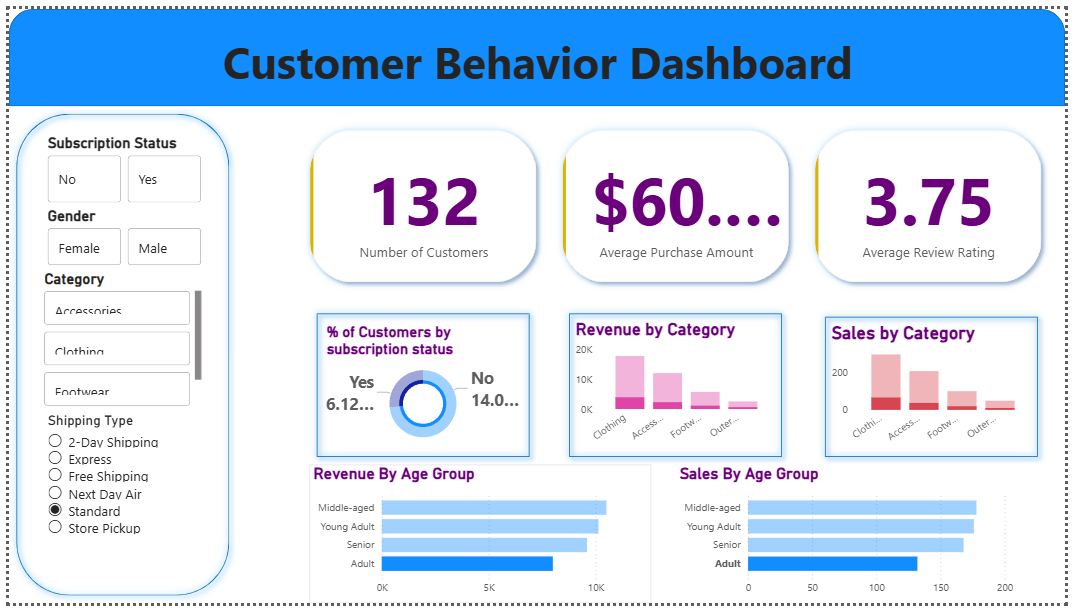

What the dashboard file says about the page in this screenshot:
{"tool":"powerbi","page":{"name":"Page 1","canvas":[1280,720],"ordinal":0},"visuals":[{"type":"cardVisual","fields":{"Data":["public customer.Number of Customers","public customer.Average Purchase Amount","public customer.Average Review Rating"]},"box":[336,118,944,242],"z":0},{"type":"shape","box":[0,0,1280,118],"z":1000},{"type":"textbox","box":[178,22,926,112],"z":2000},{"type":"donutChart","title":"% of Customers by subscription status","fields":{"Category":["public customer.subscription_status"],"Y":["CountNonNull(public customer.customer_id)"]},"box":[380,380,244,156],"z":3000},{"type":"clusteredColumnChart","title":"Revenue by Category","fields":{"Y":["Sum(public customer.purchase_amount)"],"Category":["public customer.category"]},"box":[682,376,250,160],"z":4000},{"type":"clusteredColumnChart","title":"Sales by Category","fields":{"Category":["public customer.category"],"Y":["CountNonNull(public customer.customer_id)"]},"box":[992,380,252,156],"z":5000},{"type":"shape","box":[670,360,276,192],"z":6000},{"type":"shape","box":[980,364,276,188],"z":7000},{"type":"shape","box":[364,360,276,192],"z":8000},{"type":"shape","box":[0,118,276,602],"z":8001},{"type":"advancedSlicerVisual","title":"Subscription Status","fields":{"Values":["public customer.subscription_status"]},"box":[42,152,196,88],"z":8002},{"type":"advancedSlicerVisual","title":"Gender","fields":{"Values":["public customer.gender"]},"box":[42,240,196,76],"z":8003},{"type":"advancedSlicerVisual","title":"Category","fields":{"Values":["public customer.category"]},"box":[38,316,200,172],"z":8004},{"type":"listSlicer","fields":{"Values":["public customer.shipping_type"]},"box":[42,488,200,202],"z":8005},{"type":"clusteredBarChart","title":"Revenue By Age Group","fields":{"Y":["Sum(public customer.purchase_amount)"],"Category":["public customer.age_group"]},"box":[364,552,414,168],"z":8006},{"type":"clusteredBarChart","title":"Sales By Age Group","fields":{"Category":["public customer.age_group"],"Y":["CountNonNull(public customer.customer_id)"]},"box":[808,552,414,168],"z":8007}]}

Visuals, with their boxes in screenshot pixels (x1, y1, x2, y2), scaled from the page's 1280x720 canvas onto the 1075x611 screenshot:
cardVisual - public customer.Number of Customers x public customer.Average Purchase Amount: x1=282, y1=100, x2=1074, y2=306
shape: x1=0, y1=0, x2=1074, y2=100
textbox: x1=149, y1=19, x2=927, y2=114
"% of Customers by subscription status" donutChart: x1=319, y1=322, x2=524, y2=455
"Revenue by Category" clusteredColumnChart: x1=573, y1=319, x2=783, y2=455
"Sales by Category" clusteredColumnChart: x1=833, y1=322, x2=1045, y2=455
shape: x1=563, y1=306, x2=794, y2=468
shape: x1=823, y1=309, x2=1055, y2=468
shape: x1=306, y1=306, x2=538, y2=468
shape: x1=0, y1=100, x2=232, y2=610
"Subscription Status" advancedSlicerVisual: x1=35, y1=129, x2=200, y2=204
"Gender" advancedSlicerVisual: x1=35, y1=204, x2=200, y2=268
"Category" advancedSlicerVisual: x1=32, y1=268, x2=200, y2=414
listSlicer - public customer.shipping_type: x1=35, y1=414, x2=203, y2=586
"Revenue By Age Group" clusteredBarChart: x1=306, y1=468, x2=653, y2=610
"Sales By Age Group" clusteredBarChart: x1=679, y1=468, x2=1026, y2=610
